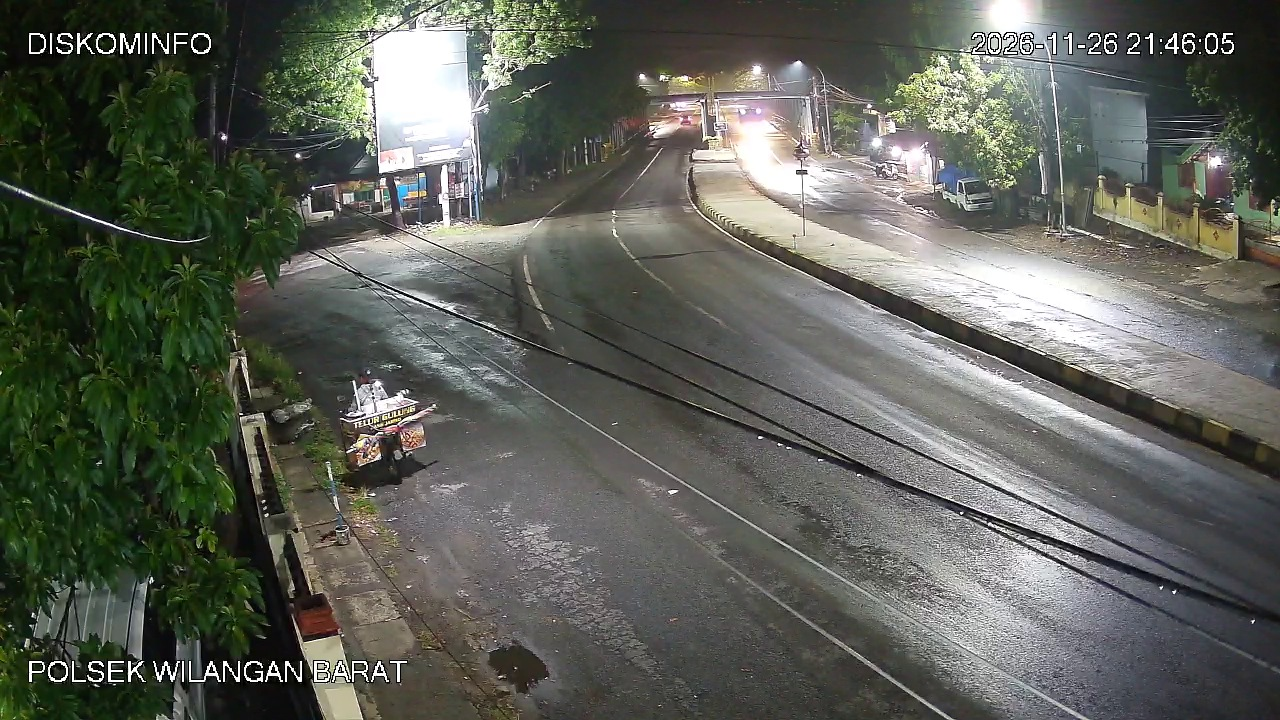Gerobak: (337, 367, 438, 484)
